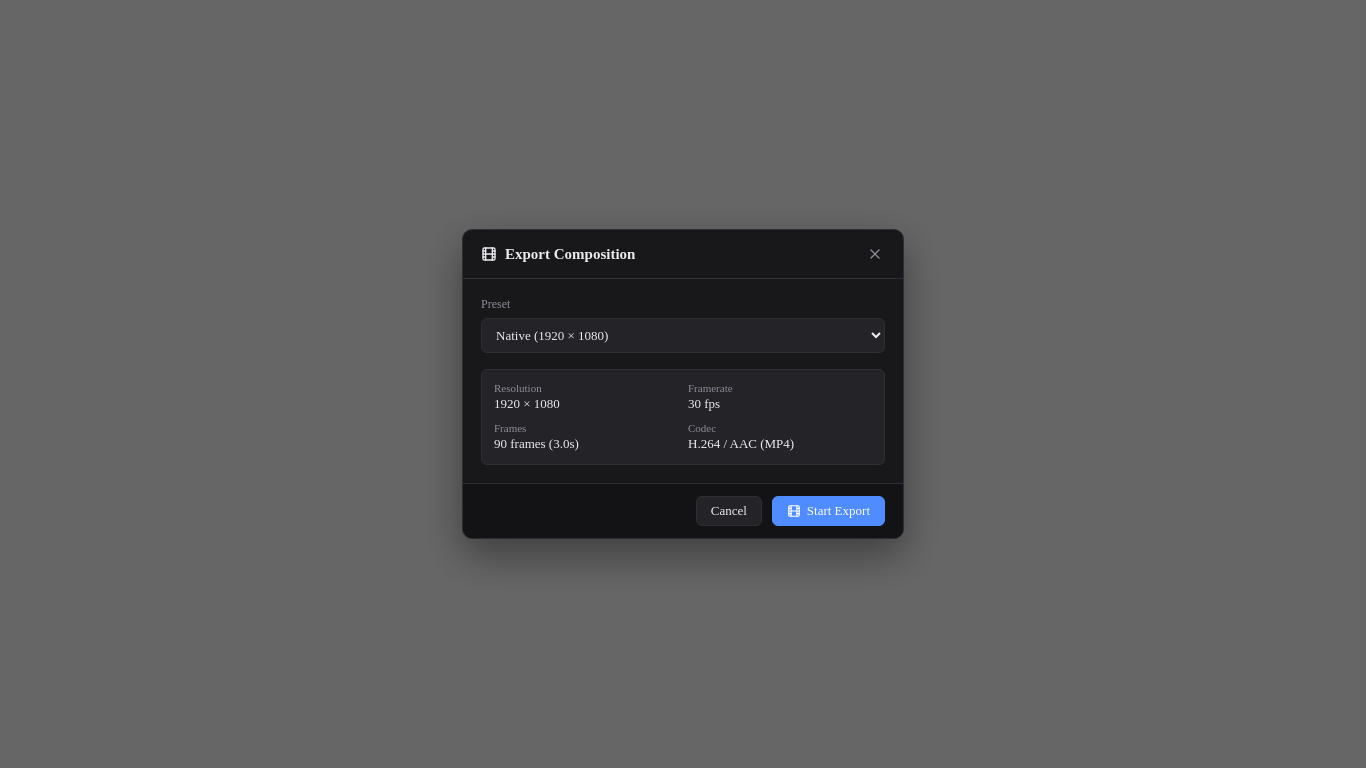
Test case: ExportModal › renders preset choices and updates dimensions
expect the text "Export Composition" is shown: met, box [505,246,635,262]
expect the button "Start Export" is shown: met, box [772,496,885,526]
Select "4K Ultra HD (3840 × 2160)" in the dropdown labelled "Preset" at (683, 336), box [481,318,885,353]
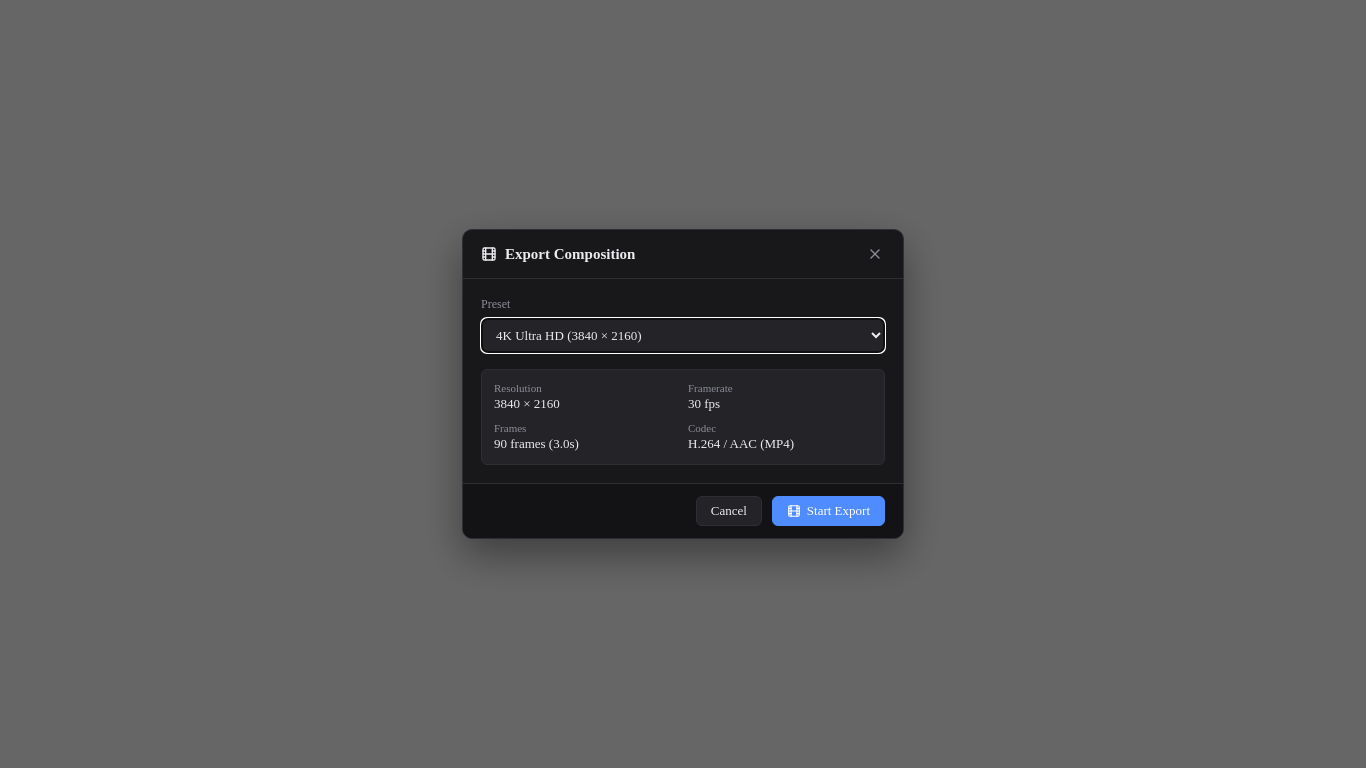
expect the text with test id "resolution-value" reads "3840 × 2160": met, box [494,396,560,411]
Select "Vertical 9:16 Shorts/Reels (1080 × 1920)" in the dropdown labelled "Preset" at (683, 336), box [481,318,885,353]
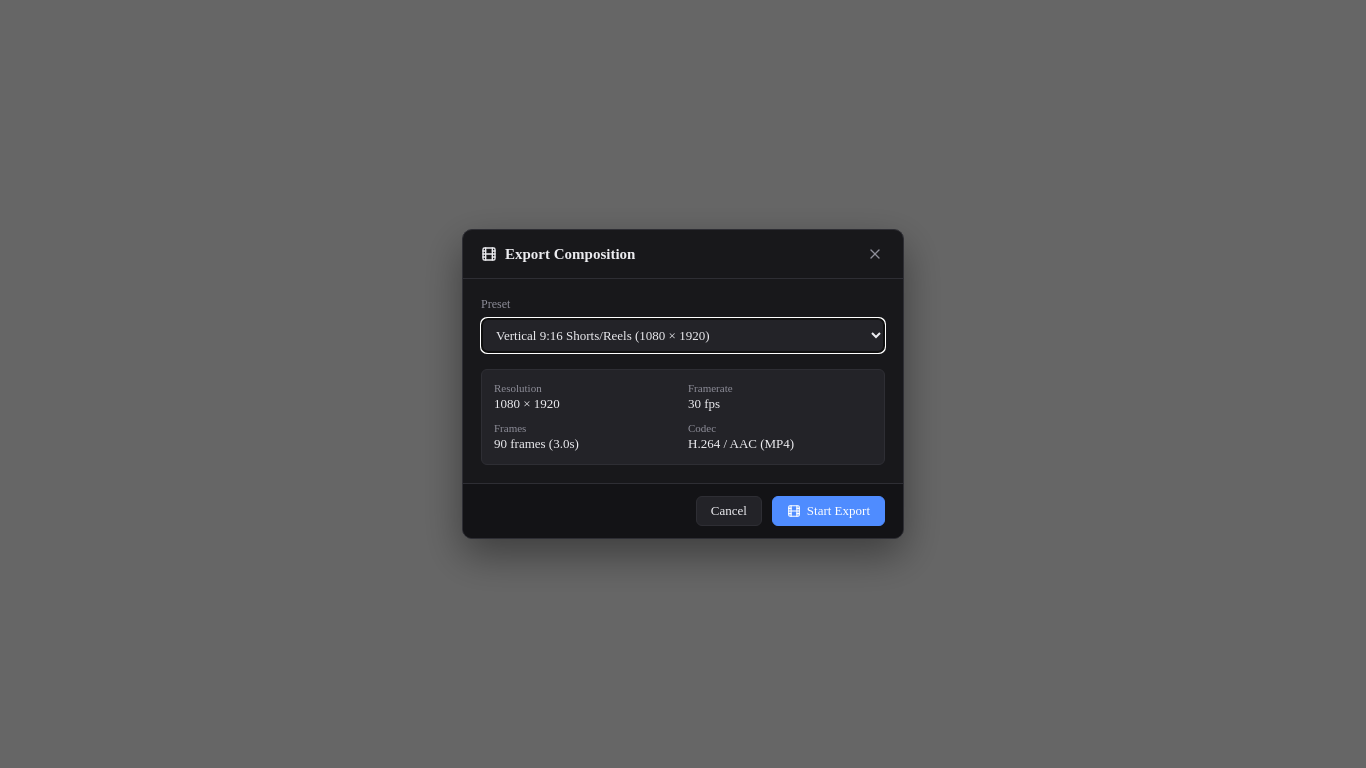
expect the text with test id "resolution-value" reads "1080 × 1920": met, box [494,396,560,411]
